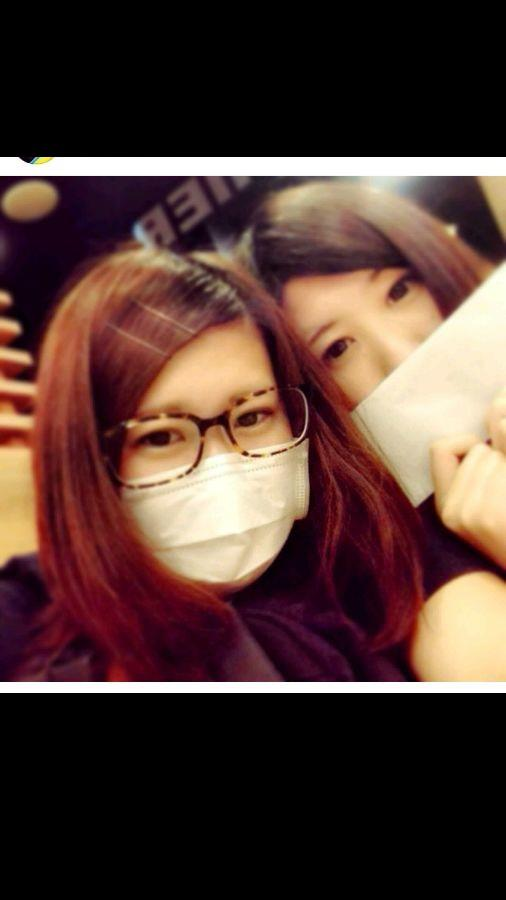NONE: (312, 263, 477, 431)
OK: (115, 381, 305, 587)
